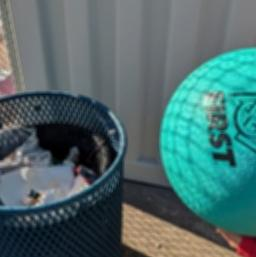algae: (155, 43, 256, 235)
